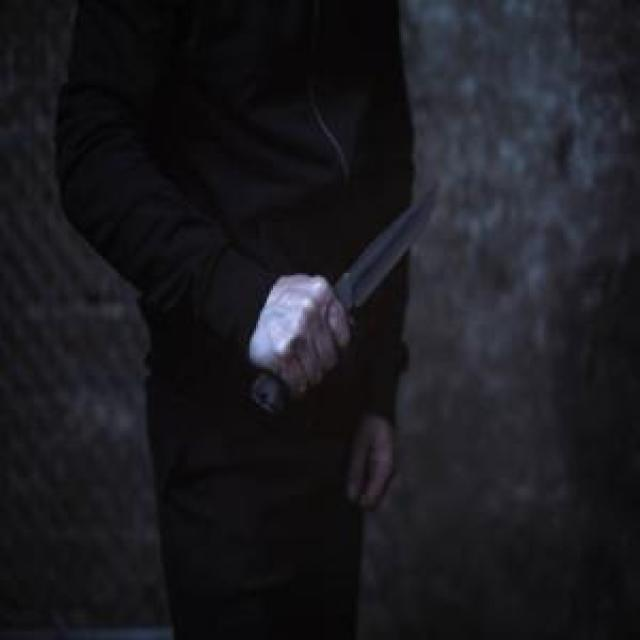knife: (252, 175, 444, 418)
